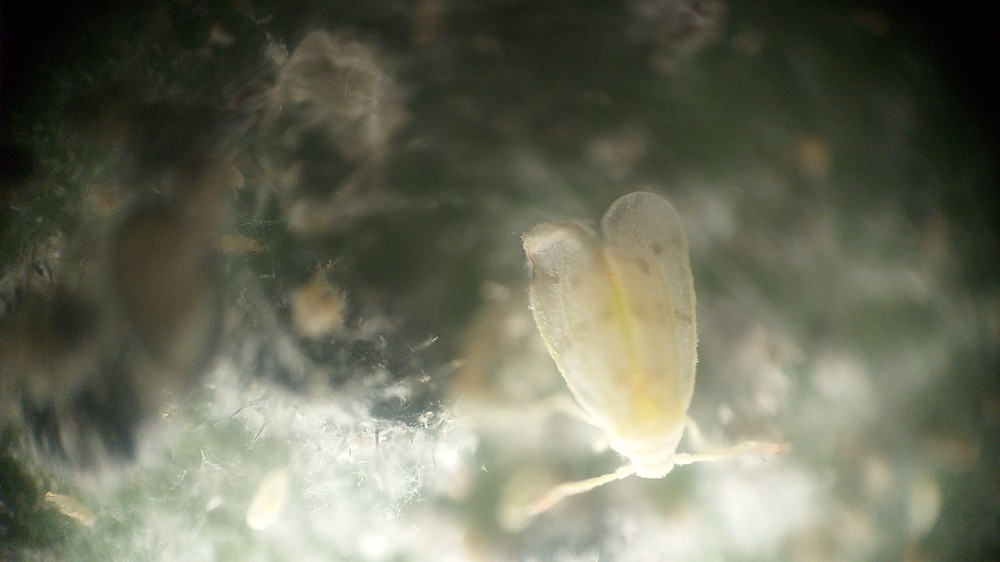Mosca Blanca: (472, 187, 826, 535)
